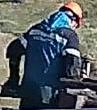gloves: (2, 81, 20, 99)
helmet: (59, 1, 83, 29)
vest: (22, 18, 80, 95)
